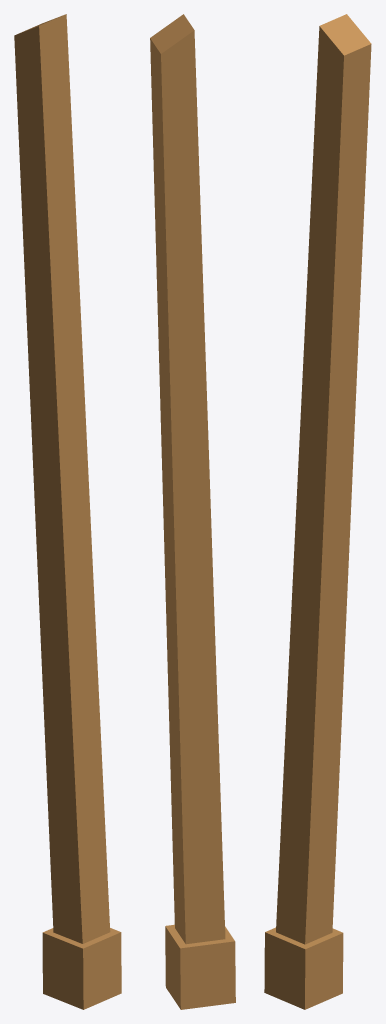
Rendered from LambapraCable.fbx.
The picture shows the model from 3 angles, left to right: view 1: azimuth 90°, elevation 25°; view 2: azimuth 150°, elevation 25°; view 3: azimuth 270°, elevation 25°; orthographic projection.
Visible parts, largest first — view 1: CableLampara; view 2: CableLampara; view 3: CableLampara.
Part boxes in pixels (box(x1,y1,x2,y2)): CableLampara: box(14, 14, 121, 1009); CableLampara: box(150, 14, 235, 1009); CableLampara: box(264, 14, 371, 1009).
Size of the model in its own units: 11.47 by 156 by 15.57.
